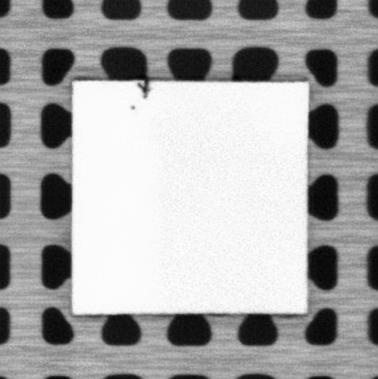DIE_INK: (136, 79, 151, 99), (128, 103, 139, 112)
